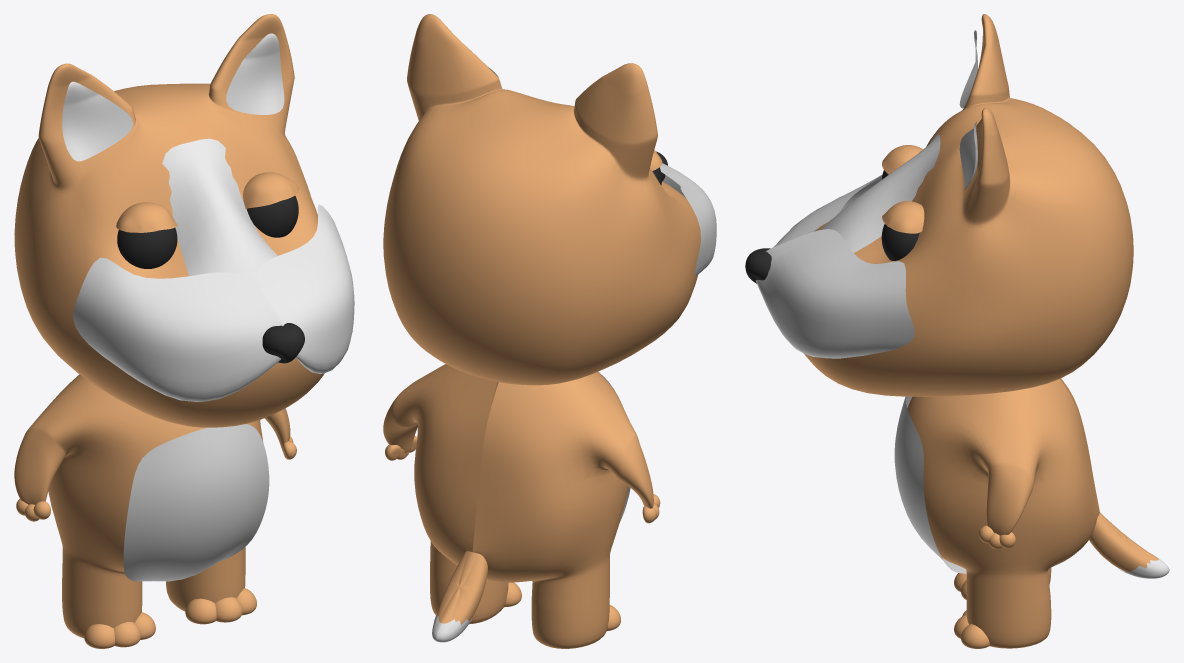
Rendered from dogg.glb.
3 views of the same model, side by side, from view 1: azimuth 30°, elevation 25°; view 2: azimuth 150°, elevation 25°; view 3: azimuth 270°, elevation 25° (orthographic). The views are drawn at different scales.
Parts seen in each view (by area): view 1: 立方体.014; view 2: 立方体.014; view 3: 立方体.014.
Boxes of the visible parts, <box> form: 立方体.014: <box>14,14,354,648</box>; 立方体.014: <box>383,14,716,648</box>; 立方体.014: <box>745,14,1169,648</box>.
Size of the model in its own units: 3.16 by 6.43 by 4.49.
